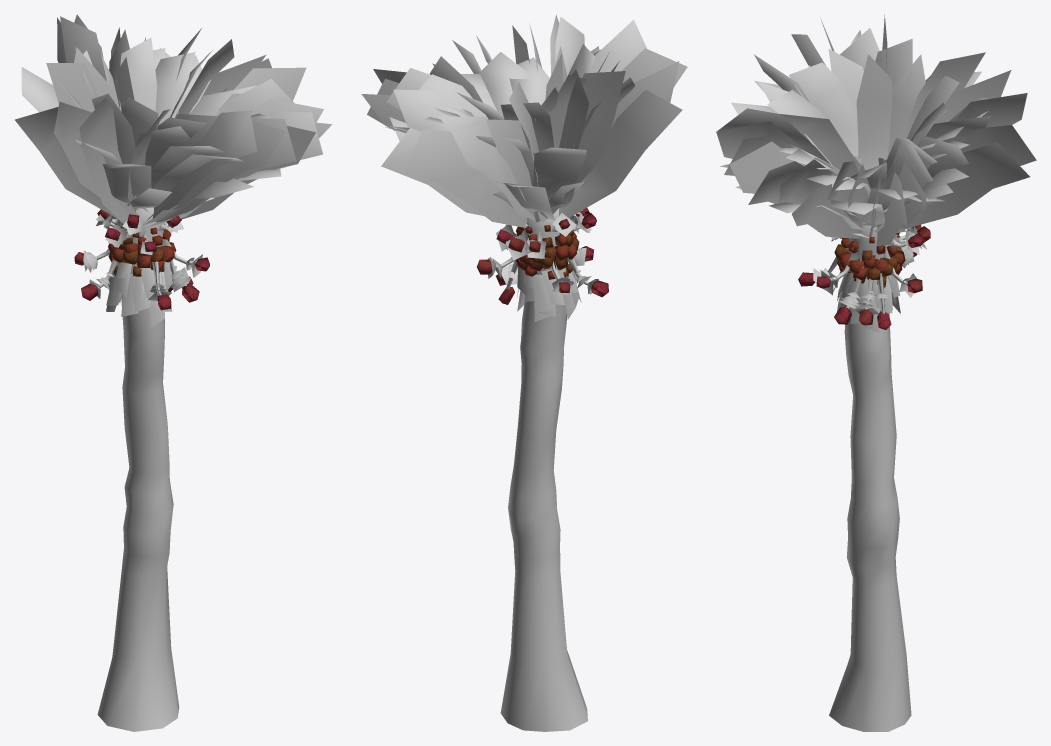
File: Tree6_1_L2.fbx
3 views of the same model, side by side, from view 1: azimuth 30°, elevation 25°; view 2: azimuth 150°, elevation 25°; view 3: azimuth 270°, elevation 25° (orthographic).
Parts seen in each view (by area): view 1: polySurface31; view 2: polySurface31; view 3: polySurface31.
Part boxes in pixels (bbox=[...]): polySurface31: bbox=[15, 14, 331, 731]; polySurface31: bbox=[361, 14, 687, 731]; polySurface31: bbox=[716, 14, 1036, 731].
Size of the model in its own units: 665 by 1412 by 623.
